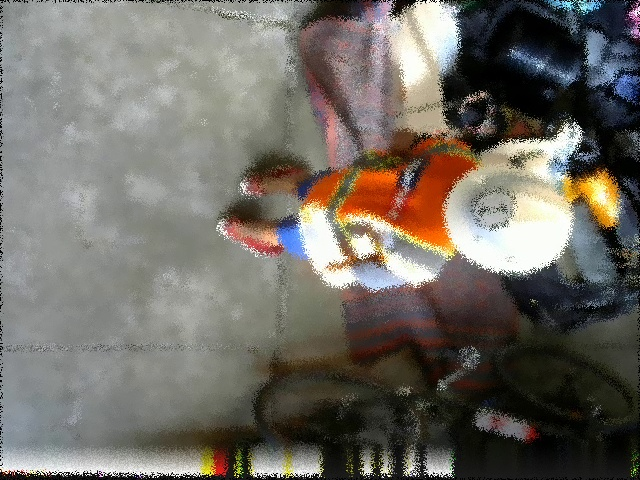one: (472, 188, 515, 228)
